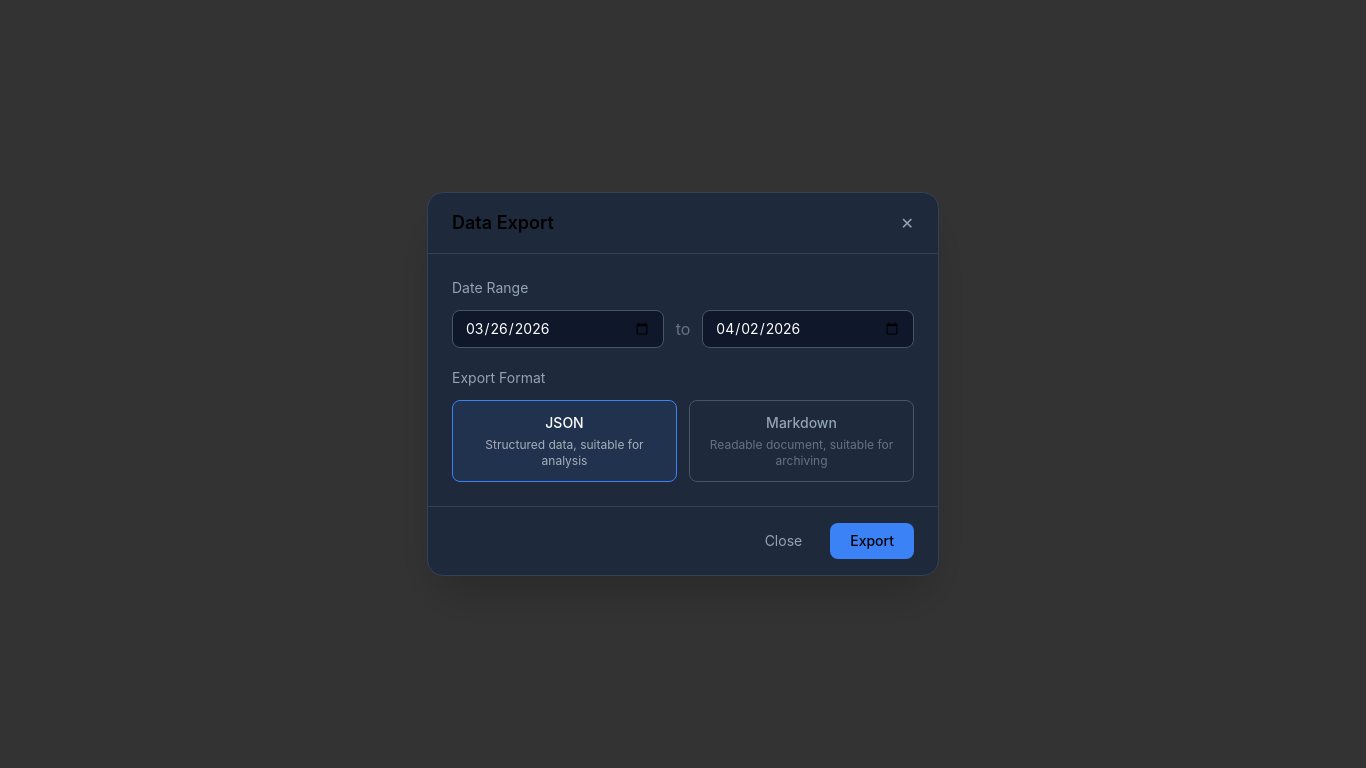
Test case: ExportModal › shows date error when start > end
This screenshot has width=1366, height=768.
Type "2026-03-20" into the 1st date field at (558, 329), box 452,310 -> 664,348
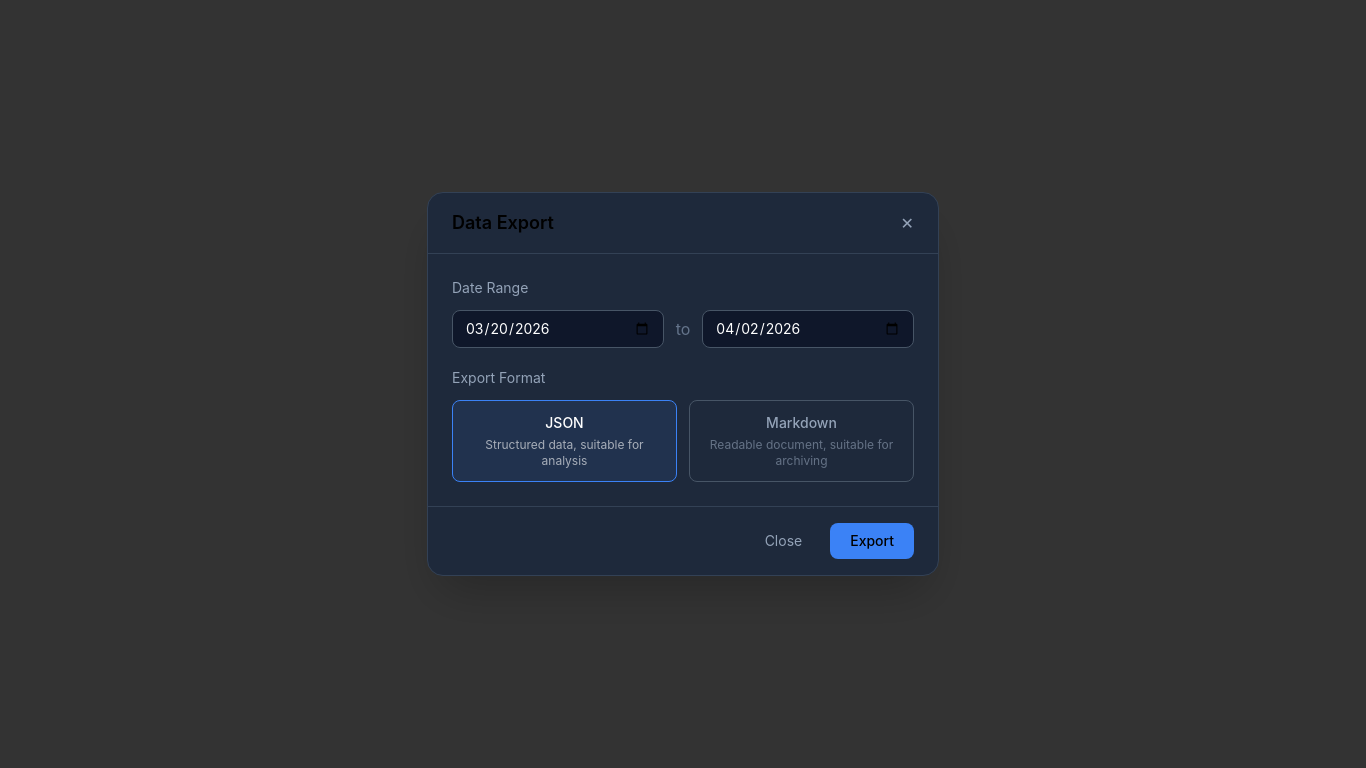
Type "2026-03-10" into the 2nd date field at (808, 329), box 702,310 -> 914,348
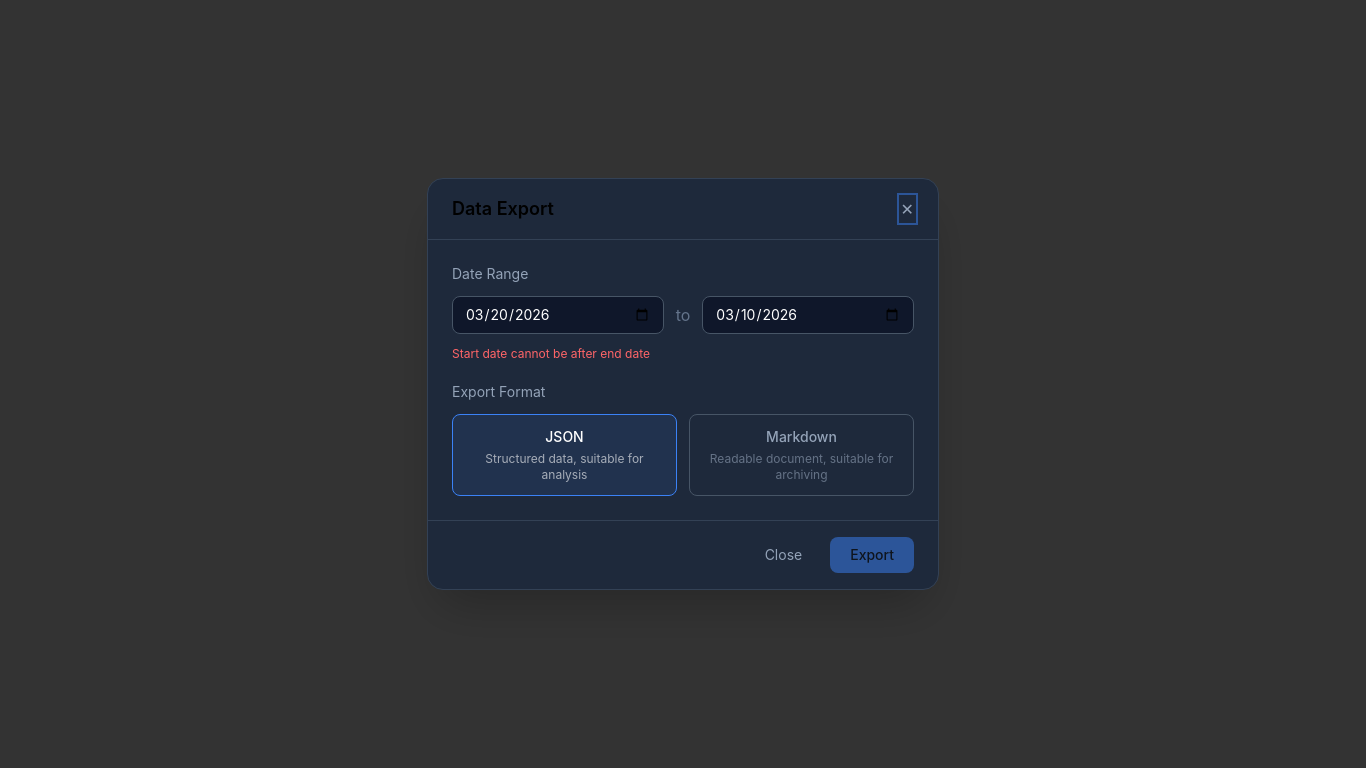
Check: the text "Start date cannot be after end date" is shown, box 452,346 -> 650,361
